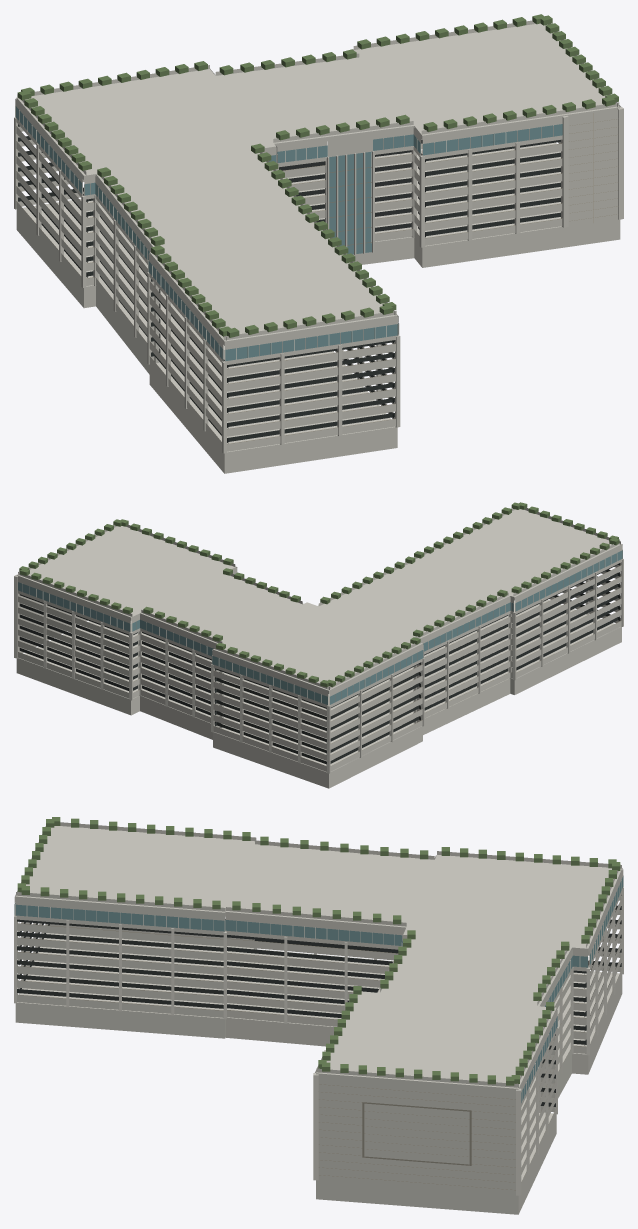
Rendered from bespoke-hyperion-parking-podium.glb.
3 views of the same model, one above another, from view 1: azimuth 30°, elevation 25°; view 2: azimuth 150°, elevation 25°; view 3: azimuth 270°, elevation 25° (orthographic). The views are drawn at different scales.
Visible parts, largest first — view 1: P_01_light_stone_slabs_and_piers003_1, P_03_rooftop_planters003_1, P_02_recessed_open_parking_slots003_1, P_04_solid_end_recess_and_vertical_stair_glazing001_4, P_02_recessed_open_parking_slots003, P_01_light_stone_slabs_and_piers003, P_03_rooftop_planters003, P_04_solid_end_recess_and_vertical_stair_glazing001_1, P_04_solid_end_recess_and_vertical_stair_glazing001; view 2: P_01_light_stone_slabs_and_piers003_1, P_02_recessed_open_parking_slots003_1, P_03_rooftop_planters003_1, P_02_recessed_open_parking_slots003, P_01_light_stone_slabs_and_piers003, P_03_rooftop_planters003, P_04_solid_end_recess_and_vertical_stair_glazing001_4, P_04_solid_end_recess_and_vertical_stair_glazing001; view 3: P_01_light_stone_slabs_and_piers003_1, P_04_solid_end_recess_and_vertical_stair_glazing001_4, P_02_recessed_open_parking_slots003_1, P_03_rooftop_planters003_1, P_02_recessed_open_parking_slots003, P_03_rooftop_planters003, P_01_light_stone_slabs_and_piers003, P_04_solid_end_recess_and_vertical_stair_glazing001_2, P_04_solid_end_recess_and_vertical_stair_glazing001, P_04_solid_end_recess_and_vertical_stair_glazing001_3.
Part boxes in pixels (left/top/right/bottom): P_01_light_stone_slabs_and_piers003_1: left=14, top=23, right=620, bottom=473; P_03_rooftop_planters003_1: left=17, top=14, right=618, bottom=337; P_02_recessed_open_parking_slots003_1: left=18, top=124, right=560, bottom=443; P_04_solid_end_recess_and_vertical_stair_glazing001_4: left=327, top=31, right=623, bottom=254; P_02_recessed_open_parking_slots003: left=15, top=106, right=562, bottom=361; P_01_light_stone_slabs_and_piers003: left=16, top=126, right=562, bottom=444; P_03_rooftop_planters003: left=17, top=20, right=619, bottom=340; P_04_solid_end_recess_and_vertical_stair_glazing001_1: left=329, top=151, right=371, bottom=254; P_04_solid_end_recess_and_vertical_stair_glazing001: left=15, top=105, right=553, bottom=361; P_01_light_stone_slabs_and_piers003_1: left=16, top=509, right=623, bottom=788; P_02_recessed_open_parking_slots003_1: left=19, top=563, right=620, bottom=765; P_03_rooftop_planters003_1: left=19, top=502, right=619, bottom=687; P_02_recessed_open_parking_slots003: left=18, top=550, right=622, bottom=704; P_01_light_stone_slabs_and_piers003: left=18, top=565, right=621, bottom=766; P_03_rooftop_planters003: left=18, top=507, right=620, bottom=689; P_04_solid_end_recess_and_vertical_stair_glazing001_4: left=14, top=574, right=87, bottom=658; P_04_solid_end_recess_and_vertical_stair_glazing001: left=22, top=550, right=622, bottom=705; P_01_light_stone_slabs_and_piers003_1: left=14, top=826, right=623, bottom=1214; P_04_solid_end_recess_and_vertical_stair_glazing001_4: left=313, top=960, right=521, bottom=1195; P_02_recessed_open_parking_slots003_1: left=17, top=895, right=621, bottom=1106; P_03_rooftop_planters003_1: left=17, top=817, right=620, bottom=1085; P_02_recessed_open_parking_slots003: left=14, top=876, right=623, bottom=1102; P_03_rooftop_planters003: left=16, top=822, right=621, bottom=1087; P_01_light_stone_slabs_and_piers003: left=17, top=895, right=622, bottom=1180; P_04_solid_end_recess_and_vertical_stair_glazing001_2: left=319, top=1084, right=515, bottom=1190; P_04_solid_end_recess_and_vertical_stair_glazing001: left=14, top=875, right=623, bottom=1102; P_04_solid_end_recess_and_vertical_stair_glazing001_3: left=362, top=1102, right=471, bottom=1165.
Size of the model in its own units: 136 by 31.75 by 132.
